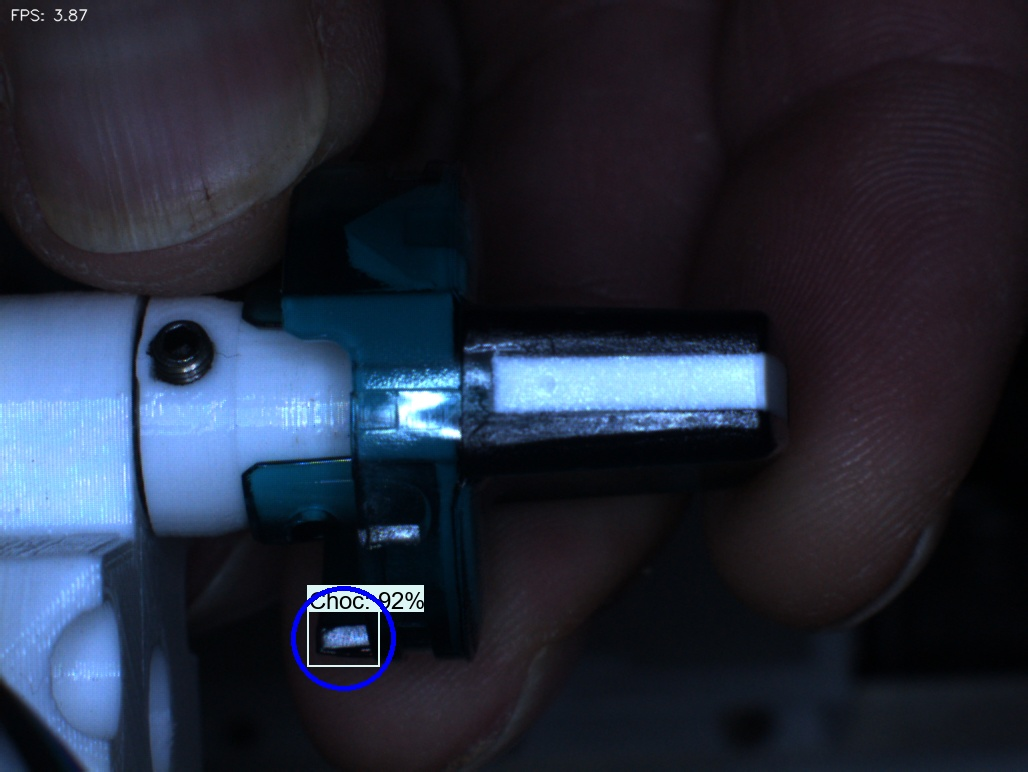DentOk: (323, 188, 388, 297)
